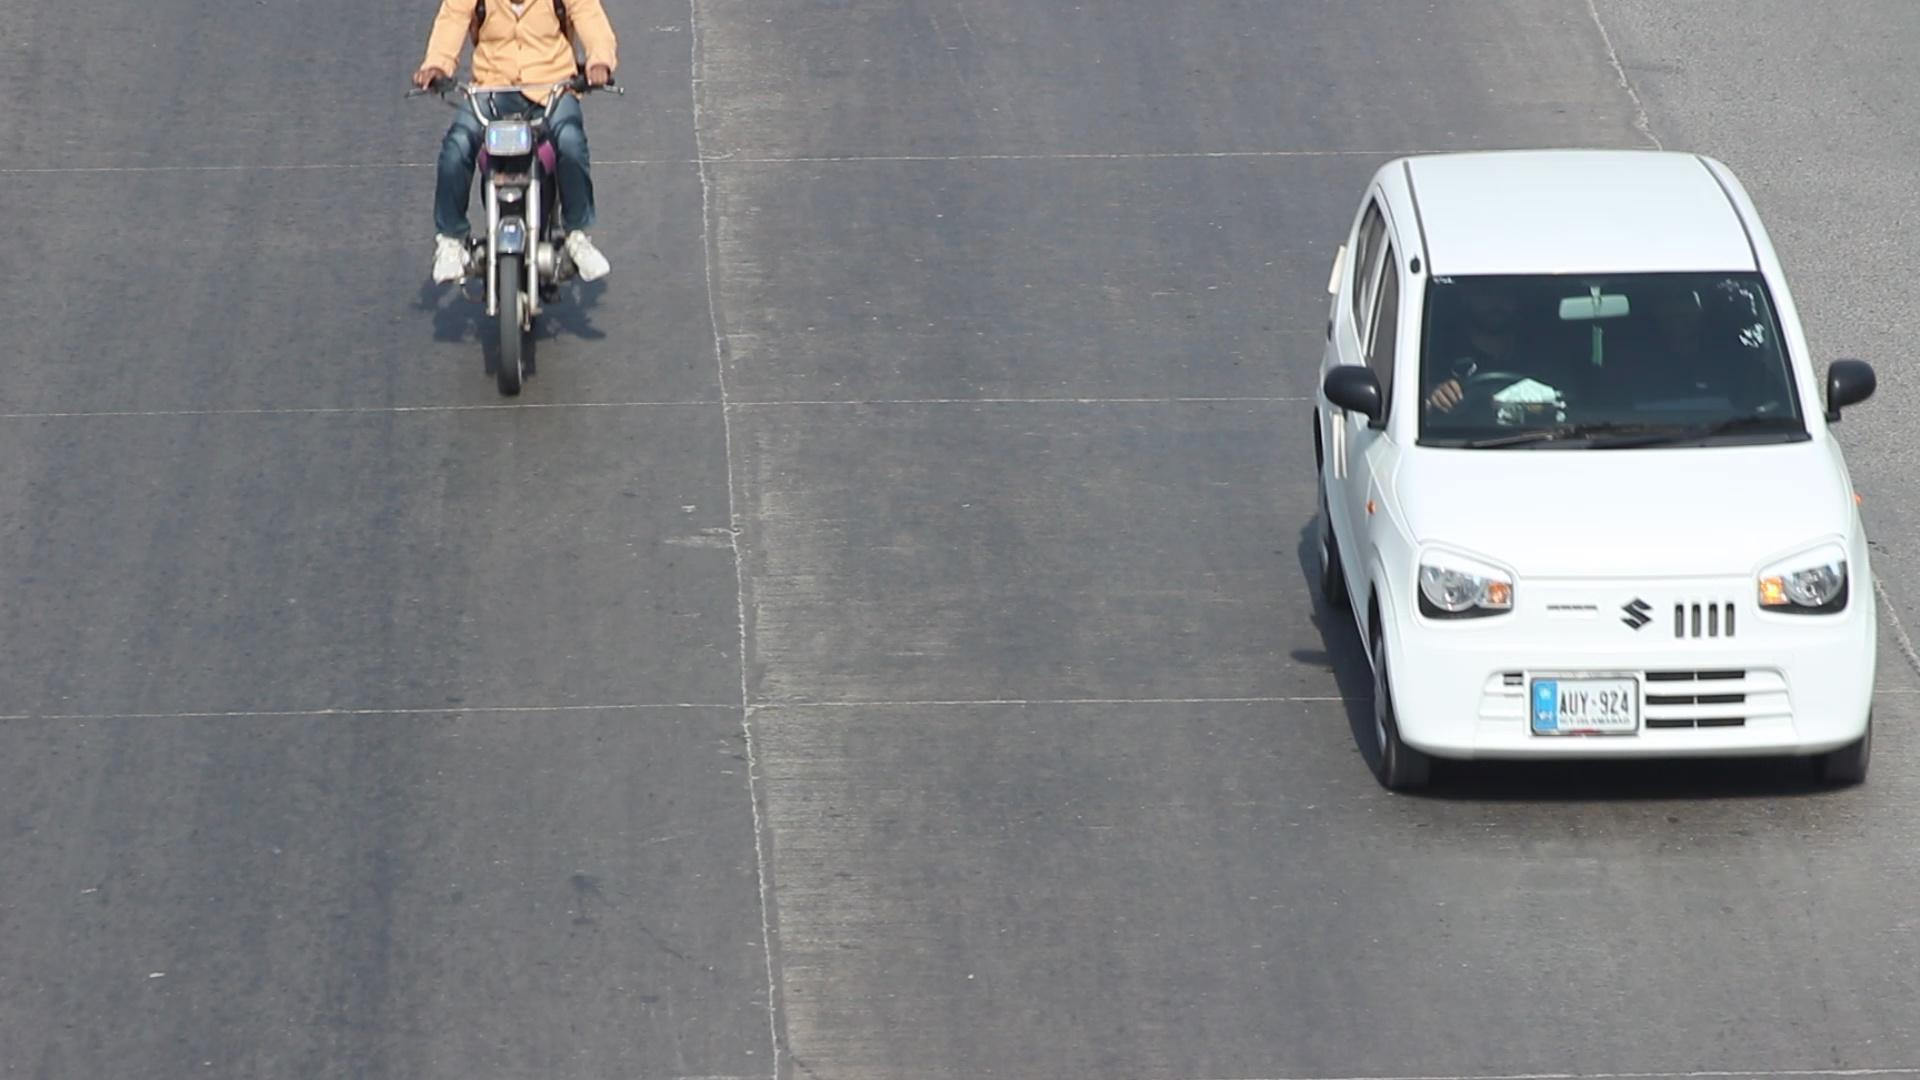windshield: (1418, 251, 1826, 473)
